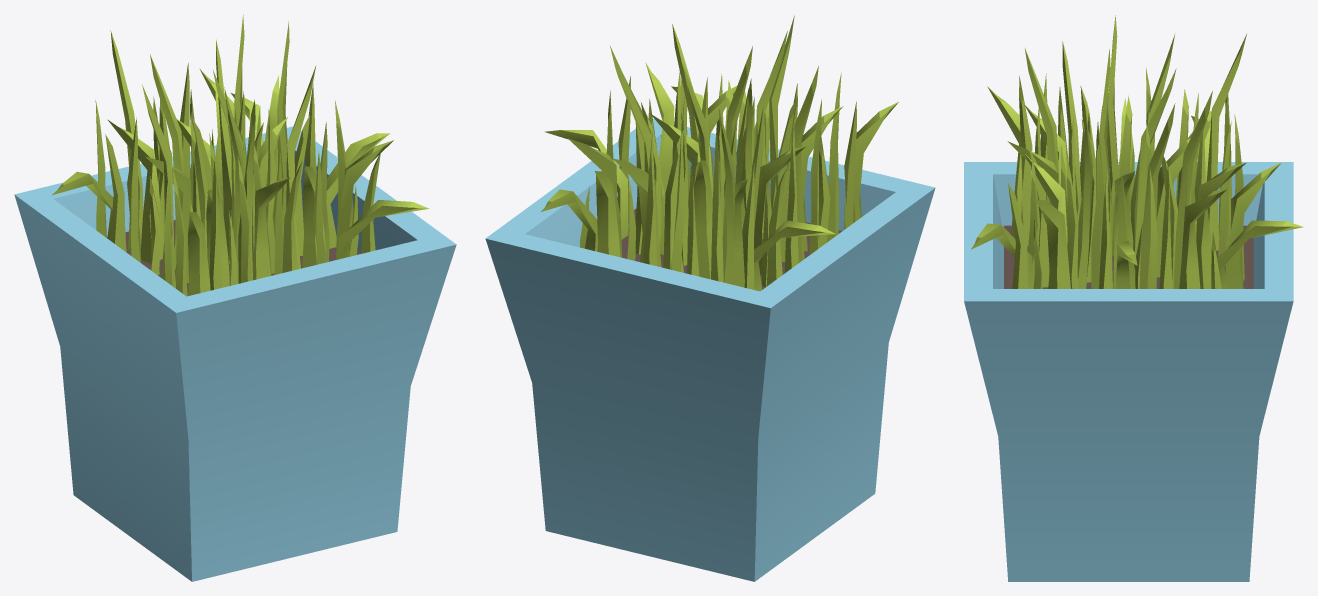
File: plant01_04.gltf
3 views of the same model, side by side, from view 1: azimuth 30°, elevation 25°; view 2: azimuth 150°, elevation 25°; view 3: azimuth 270°, elevation 25° (orthographic).
Parts seen in each view (by area): view 1: plant01_stage01:pot.001, pCube8, pCube5, pCube24, plant01_stage03:pCube3, pCube4, pCube16, pCube27, pCube20, pCube2, plant01_stage03:pCube24, pCube26 (+29 smaller); view 2: plant01_stage01:pot.001, plant01_stage03:pCube2, pCube27, pCube31, pCube7, plant01_stage03:plant01_stage02:pCube7, pCube2, plant01_stage03:pCube11, plant01_stage03:pCube31, pCube4, pCube24, pCube10 (+29 smaller); view 3: plant01_stage01:pot.001, pCube4, pCube31, pCube21, plant01_stage03:pCube10, pCube9, pCube27, plant01_stage03:pCube25, plant01_stage03:pCube24, plant01_stage03:pCube3, plant01_stage03:plant01_stage02:pCube5, pCube15 (+31 smaller).
Part boxes in pixels (x1,y1,x2,y2): plant01_stage01:pot.001: (14, 126, 456, 581); pCube8: (107, 119, 163, 263); pCube5: (252, 177, 290, 280); pCube24: (188, 212, 210, 295); plant01_stage03:pCube3: (216, 39, 231, 263); pCube4: (335, 140, 393, 259); pCube16: (338, 199, 429, 259); pCube27: (110, 30, 143, 249); pCube20: (302, 166, 326, 268); pCube2: (326, 133, 389, 248); plant01_stage03:pCube24: (277, 21, 289, 243); pCube26: (105, 134, 125, 251); plant01_stage01:pot.001: (485, 118, 935, 581); plant01_stage03:pCube2: (694, 160, 712, 279); pCube27: (719, 108, 734, 284); pCube31: (594, 171, 620, 257); pCube7: (754, 146, 805, 275); plant01_stage03:plant01_stage02:pCube7: (663, 129, 683, 272); pCube2: (544, 130, 628, 239); plant01_stage03:pCube11: (711, 129, 723, 282); plant01_stage03:pCube31: (826, 72, 841, 242); pCube4: (645, 62, 674, 198); pCube24: (843, 102, 898, 229); pCube10: (769, 15, 794, 203); plant01_stage01:pot.001: (964, 162, 1293, 581); pCube4: (1033, 198, 1070, 288); pCube31: (1225, 163, 1280, 288); pCube21: (1173, 91, 1212, 288); plant01_stage03:pCube10: (1077, 102, 1093, 288); pCube9: (1179, 189, 1227, 288); pCube27: (1206, 34, 1246, 250); plant01_stage03:pCube25: (1196, 162, 1246, 288); plant01_stage03:pCube24: (1139, 103, 1175, 288); plant01_stage03:pCube3: (1134, 68, 1176, 255); plant01_stage03:plant01_stage02:pCube5: (1091, 122, 1104, 288); pCube15: (1107, 15, 1118, 228).
Bounding box in the file's own units: 0.0153 × 0.0215 × 0.0141.
Materials: 1 (1 with a texture image).
